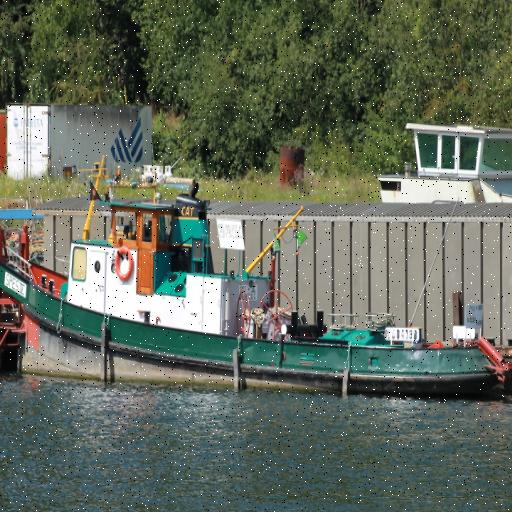tugboat: (1, 146, 512, 411)
